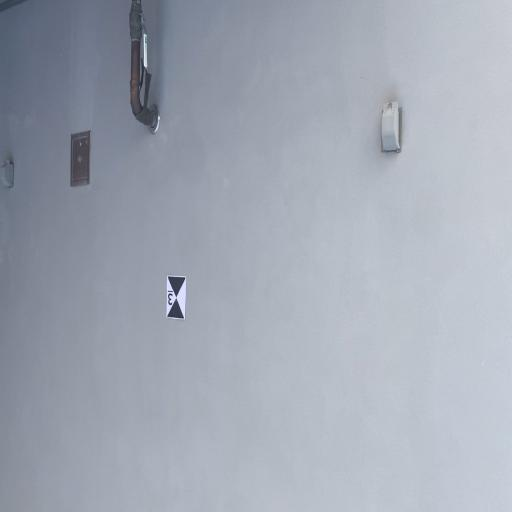target3: (165, 274, 187, 319)
